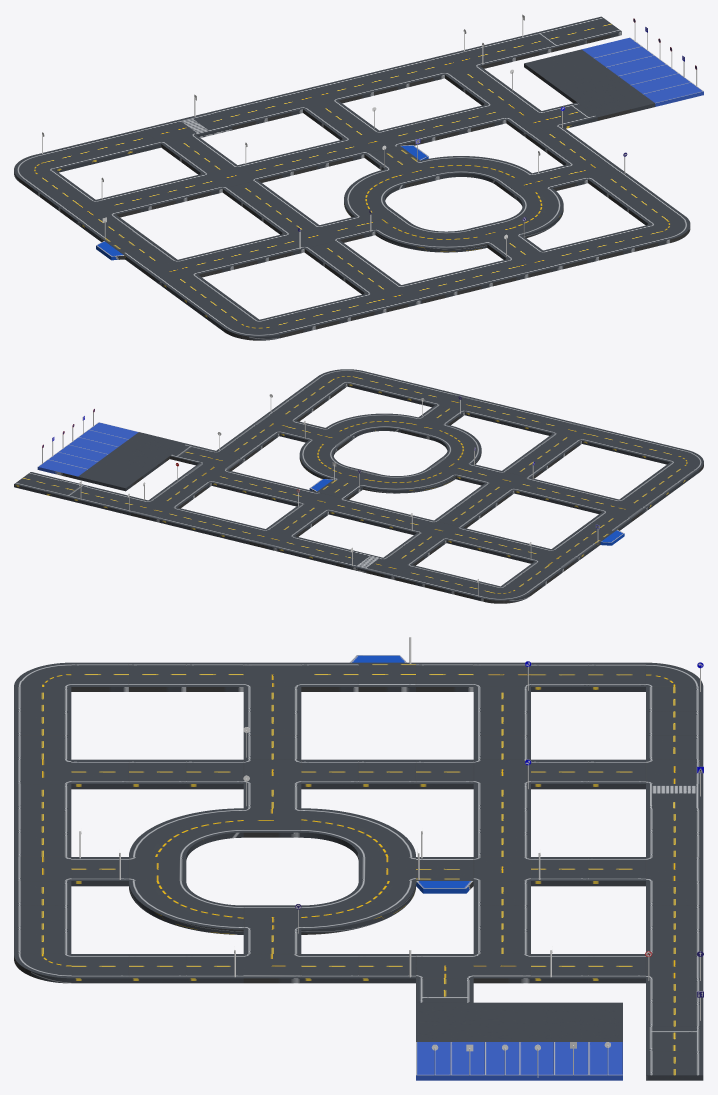
Rendered from Harita.dae.
3 renders of one model, top to bottom at view 1: azimuth 30°, elevation 25°; view 2: azimuth 150°, elevation 25°; view 3: azimuth 270°, elevation 25°, orthographic. The views are drawn at different scales.
Visible parts, largest first — view 1: Boş.004, O-Yol.003, O-Yol.001, O-Yol.002, O-Yol, Boş, DüzYol.036, DüzYol.086, DüzYol.001, Başlangıç, DüzYol.013, DüzYol.025 (+85 smaller); view 2: Boş.004, O-Yol, O-Yol.002, O-Yol.001, O-Yol.003, Boş, DüzYol.010, DüzYol.025, DüzYol.055, DüzYol.066, DüzYol.004, DüzYol.009 (+85 smaller); view 3: Boş.004, O-Yol.002, O-Yol.001, O-Yol.003, O-Yol, Boş, DüzYol.029, DüzYol.061, DüzYol.062, DüzYol.070, DüzYol.072, DüzYol.027 (+86 smaller).
Part boxes in pixels (box(x1,y1,x2,y2)): Boş.004: box(552, 70, 655, 120); O-Yol.003: box(375, 223, 487, 252); O-Yol.001: box(421, 156, 531, 185); O-Yol.002: box(502, 188, 563, 238); O-Yol: box(344, 169, 405, 217); Boş: box(524, 49, 601, 81); DüzYol.036: box(131, 182, 187, 209); DüzYol.086: box(472, 259, 528, 286); DüzYol.001: box(495, 34, 551, 60); Başlangıç: box(531, 25, 586, 52); DüzYol.013: box(70, 137, 125, 164); DüzYol.025: box(247, 94, 302, 121); Boş.004: box(102, 432, 186, 473); O-Yol: box(363, 469, 455, 493); O-Yol.002: box(326, 413, 417, 437); O-Yol.001: box(299, 440, 349, 479); O-Yol.003: box(430, 424, 481, 464); Boş: box(78, 464, 142, 491); DüzYol.010: box(211, 470, 257, 492); DüzYol.025: box(278, 536, 323, 558); DüzYol.055: box(514, 478, 560, 500); DüzYol.066: box(582, 428, 627, 450); DüzYol.004: box(494, 407, 539, 429); DüzYol.009: box(395, 565, 441, 587); Boş.004: box(416, 1002, 542, 1041); O-Yol.002: box(129, 881, 243, 934); O-Yol.001: box(301, 881, 415, 934); O-Yol.003: box(129, 808, 243, 859); O-Yol: box(301, 808, 415, 859); Boş: box(565, 1002, 622, 1041); DüzYol.029: box(588, 759, 645, 789); DüzYol.061: box(416, 759, 473, 789); DüzYol.062: box(301, 759, 358, 789); DüzYol.070: box(71, 759, 128, 789); DüzYol.072: box(186, 759, 243, 789); DüzYol.027: box(531, 759, 588, 789).
Size of the model in its own units: 34.64 by 24.03 by 1.45.
Materials: 37 (31 with a texture image).
